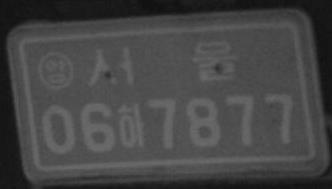0: (40, 103, 75, 155)
6: (79, 100, 116, 154)
7: (146, 96, 179, 150), (224, 93, 256, 146), (263, 92, 295, 144)
8: (185, 96, 221, 148)
서울_D: (85, 39, 239, 90)
영: (37, 50, 73, 90)
하: (116, 103, 145, 148)
